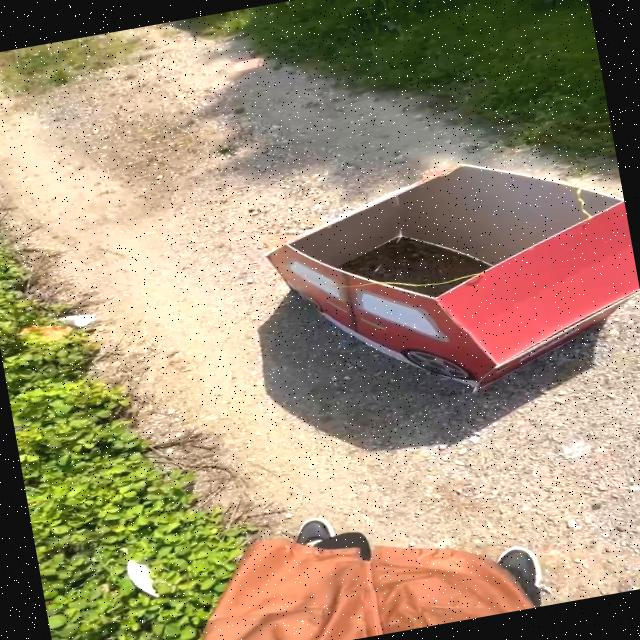red_car: (209, 136, 640, 435)
